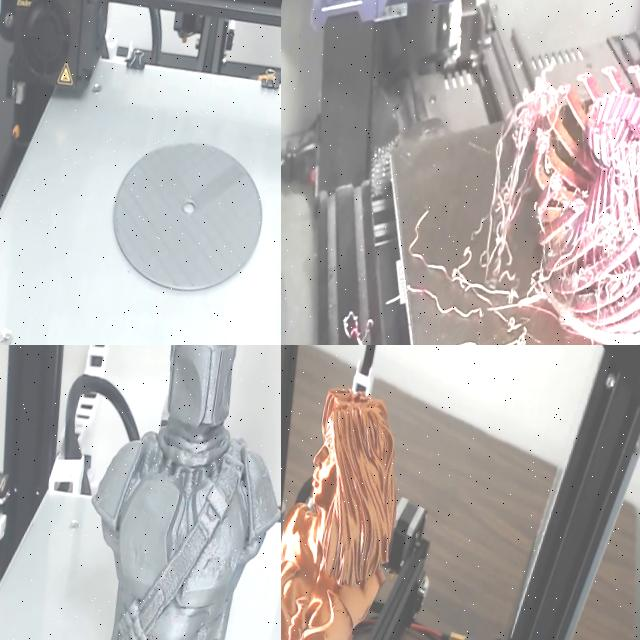spaghetti: (338, 12, 640, 345)
